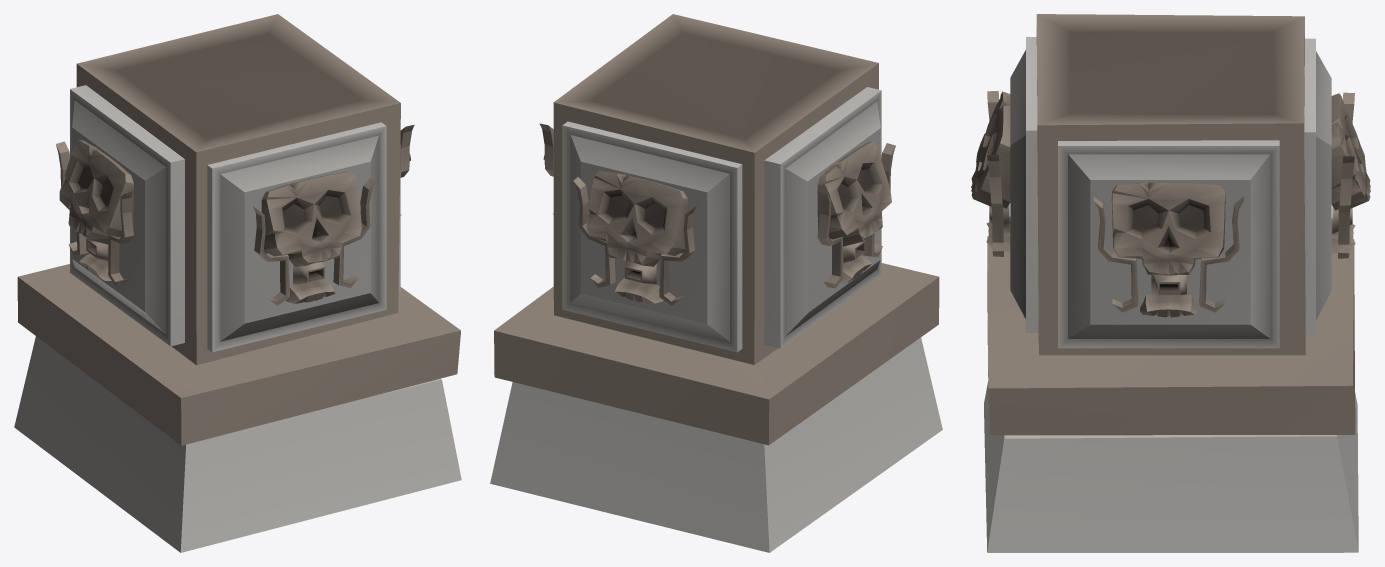
The model's file is obj_trap_dart_LOW.FBX.
The picture shows the model from 3 angles, left to right: view 1: azimuth 30°, elevation 25°; view 2: azimuth 150°, elevation 25°; view 3: azimuth 270°, elevation 25°; orthographic projection. The views are drawn at different scales.
Parts seen in each view (by area): view 1: obj_trap_dart_LOW; view 2: obj_trap_dart_LOW; view 3: obj_trap_dart_LOW.
Boxes of the visible parts, left/top/right/bottom form: obj_trap_dart_LOW: left=14, top=14, right=461, bottom=552; obj_trap_dart_LOW: left=490, top=14, right=942, bottom=552; obj_trap_dart_LOW: left=971, top=14, right=1370, bottom=552.
Size of the model in its own units: 1.5 by 1.71 by 1.5.
